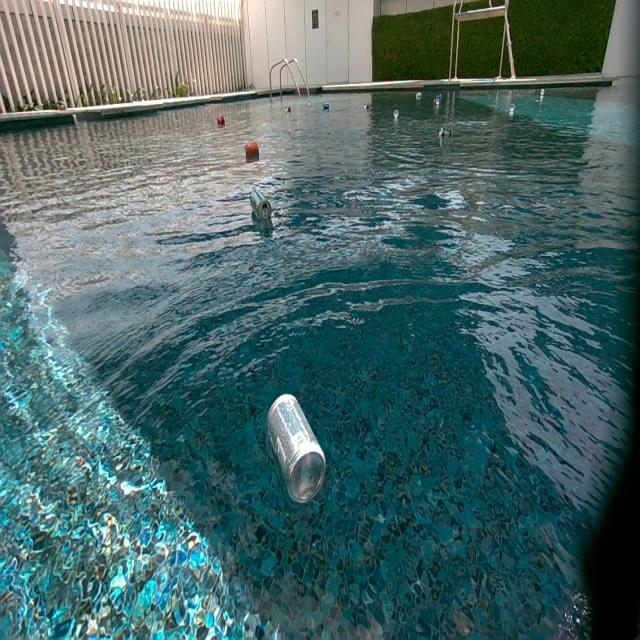Cans: (267, 390, 329, 504), (251, 189, 273, 221), (245, 142, 259, 157), (440, 128, 454, 142), (509, 102, 518, 115), (217, 114, 226, 126), (393, 108, 400, 120), (540, 88, 546, 100), (362, 102, 370, 110), (322, 102, 329, 111), (285, 105, 292, 114), (416, 94, 423, 102), (434, 96, 441, 104), (307, 101, 313, 108)
